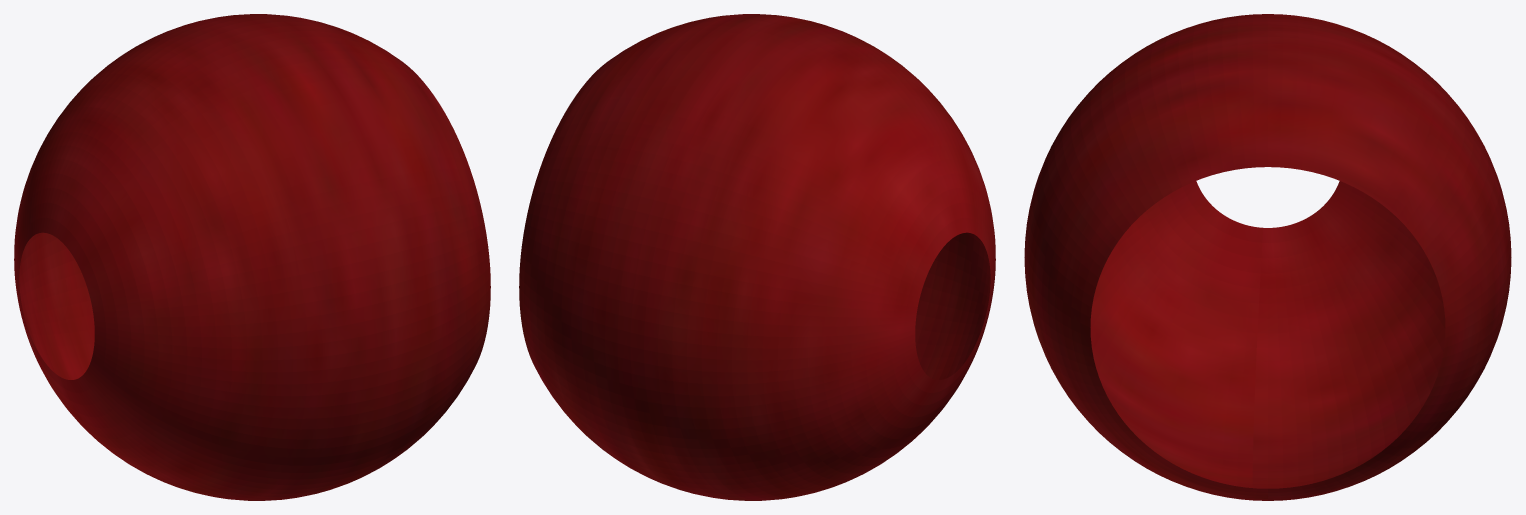
File: intcabina.fbx
3 views of the same model, side by side, from view 1: azimuth 30°, elevation 25°; view 2: azimuth 150°, elevation 25°; view 3: azimuth 270°, elevation 25° (orthographic).
Visible parts, largest first — view 1: intcabina; view 2: intcabina; view 3: intcabina.
Part boxes in pixels (x1,y1,x2,y2): intcabina: (14,14,490,500); intcabina: (519,14,995,500); intcabina: (1024,14,1511,500).
Size of the model in its own units: 0.7311 by 0.894 by 0.894.
